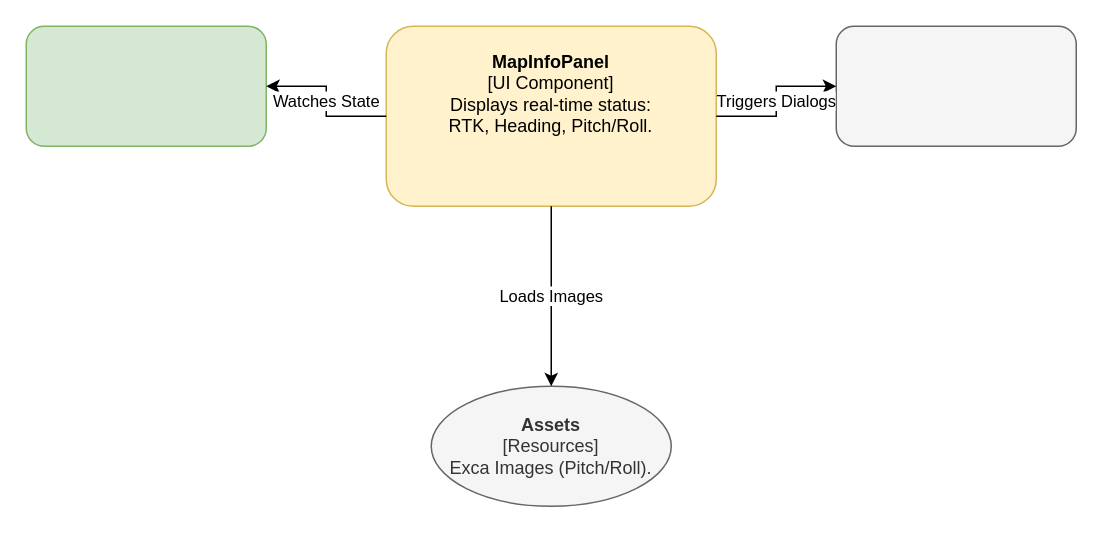
This 1103x533 diagram has some shape labels left out. Here are the shapes that lost their labels. From the top down, the centre of each, then its label:
At point 145,85: "MapPresenter [State Provider] Source of MapState.".
At point 955,85: "DialogUtils [Utility] Shows Detailed Dialogs.".
